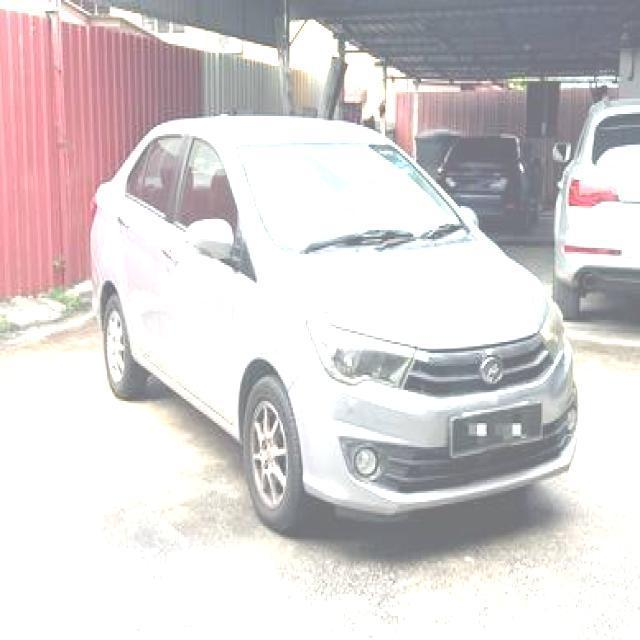PeroduaBezza: (87, 111, 579, 535)
